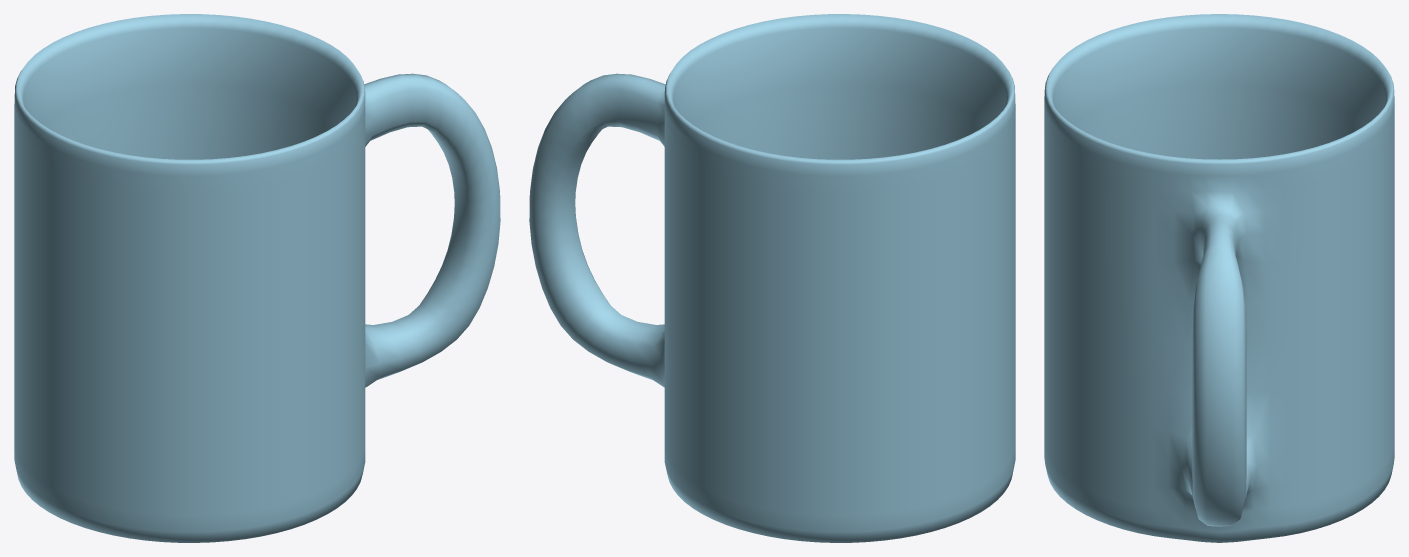
File: Cup.glb
3 renders of one model, left to right at view 1: azimuth 30°, elevation 25°; view 2: azimuth 150°, elevation 25°; view 3: azimuth 270°, elevation 25°, orthographic.
Parts seen in each view (by area): view 1: Cup; view 2: Cup; view 3: Cup.
Boxes of the visible parts, x1,y1,x2,y2 form: Cup: [14, 14, 500, 542]; Cup: [529, 14, 1015, 542]; Cup: [1044, 14, 1394, 542].
Size of the model in its own units: 0.2648 by 0.2182 by 0.1765.
